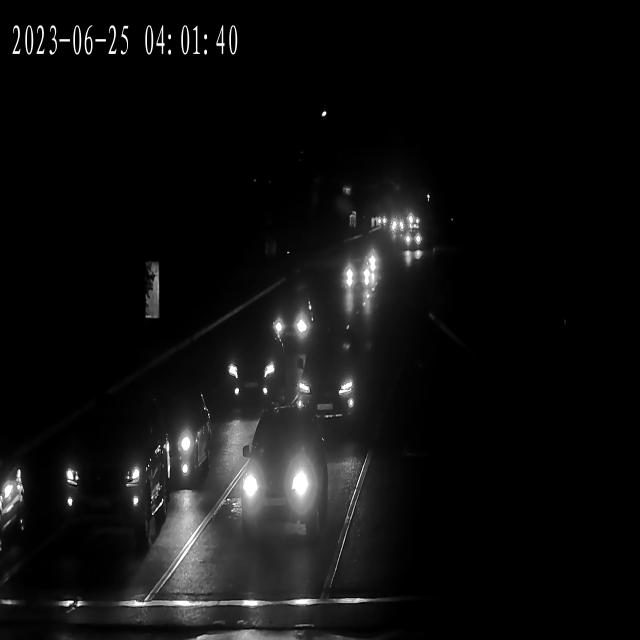Car: (54, 404, 174, 538), (124, 384, 217, 493), (228, 428, 326, 530), (0, 446, 43, 567), (222, 335, 286, 399), (296, 362, 356, 421), (266, 300, 316, 346), (340, 259, 376, 293), (404, 232, 424, 250), (406, 214, 422, 227), (390, 219, 406, 232), (369, 214, 384, 227), (372, 214, 388, 226)
